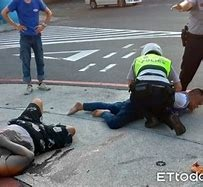falling: (68, 82, 201, 126)
